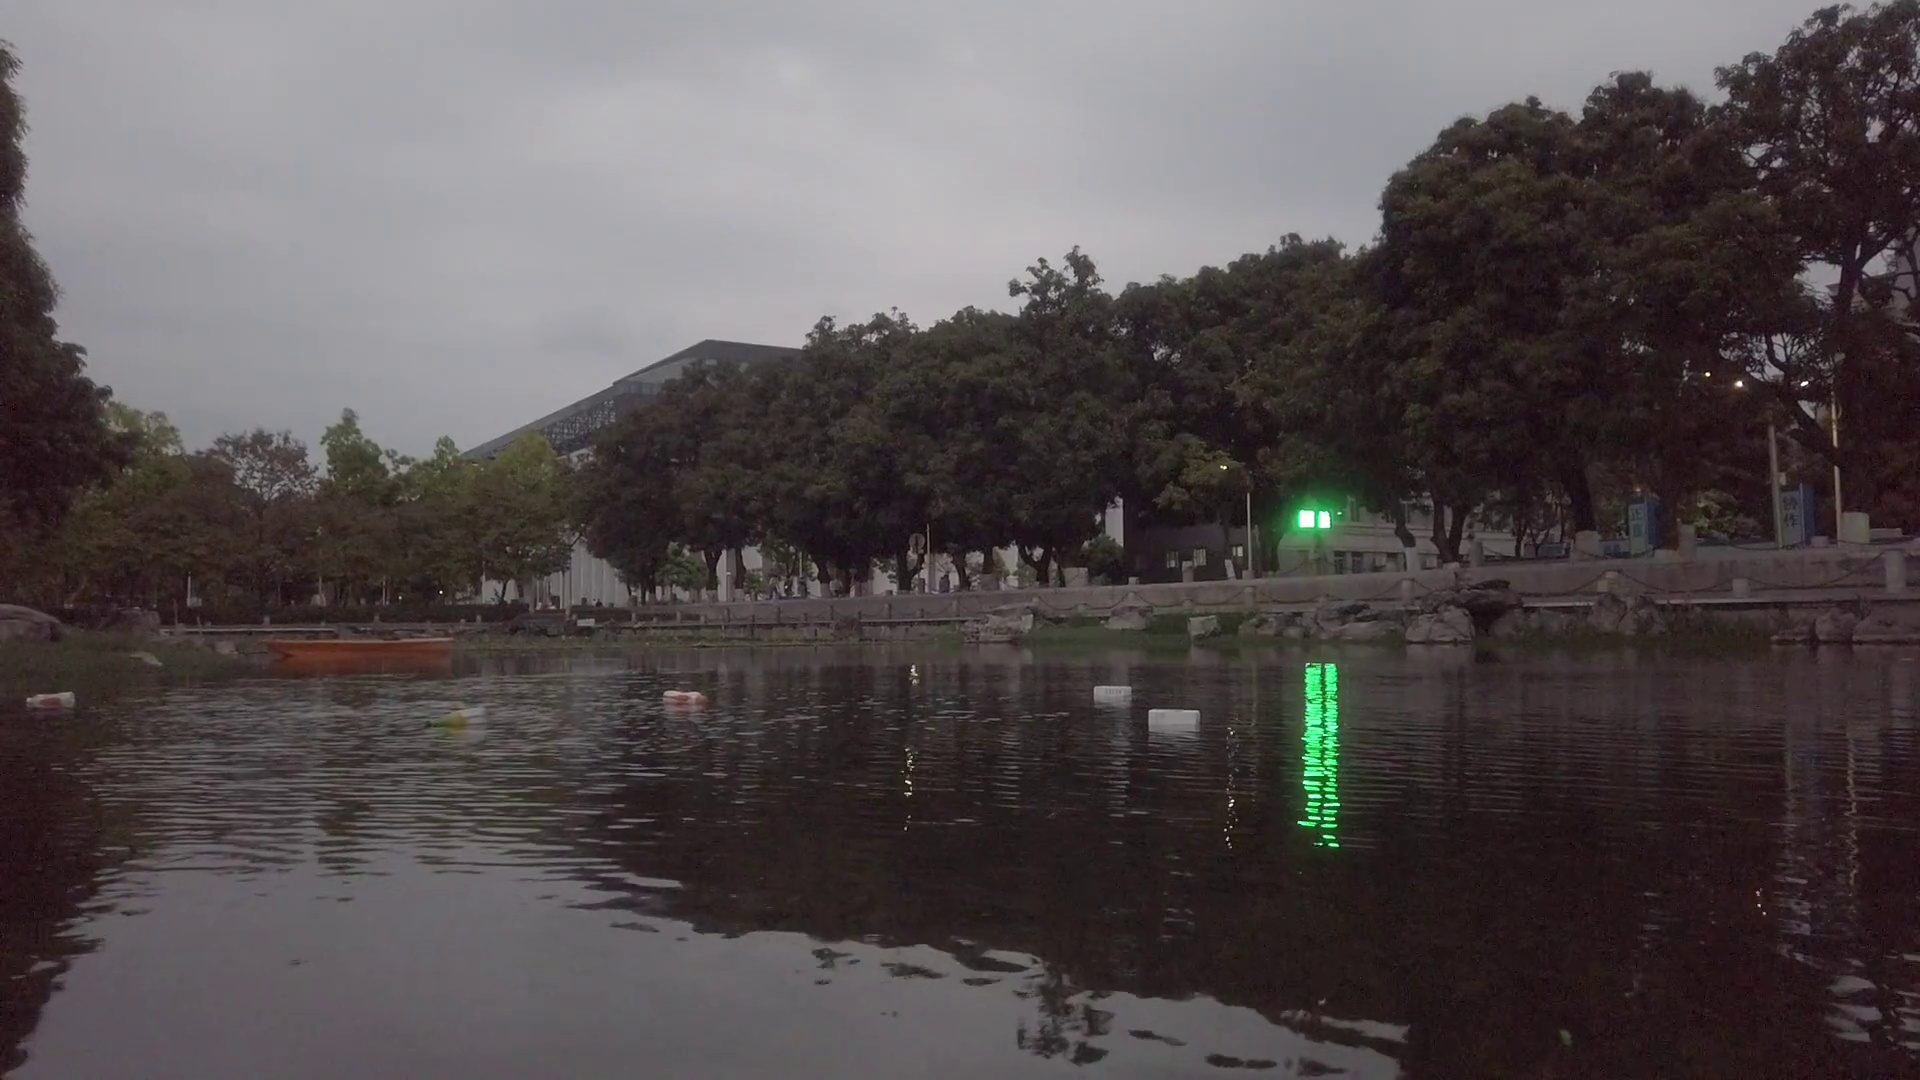bottle: (427, 705, 485, 728), (25, 692, 76, 707), (663, 690, 707, 705)
carton: (1149, 709, 1203, 725), (1092, 684, 1131, 699)
